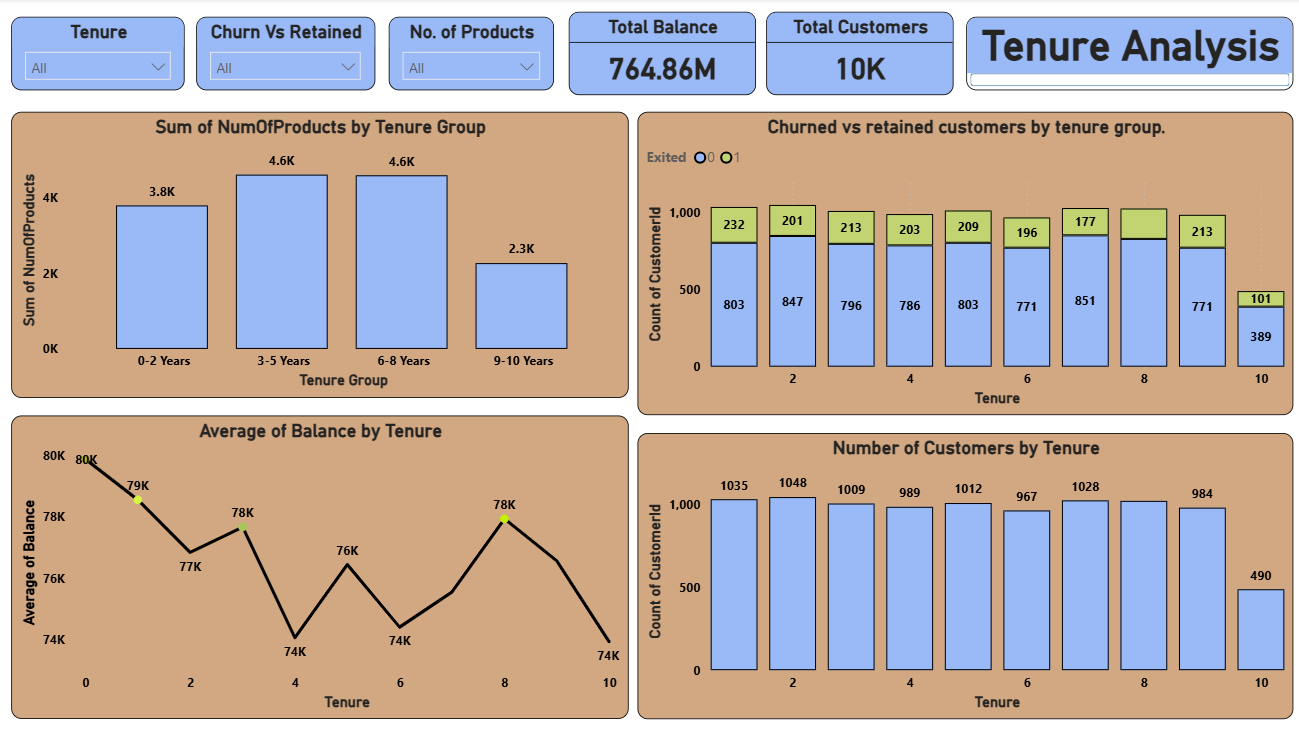

The page's visual inventory and layout, read from the dashboard file:
{"tool":"powerbi","page":{"name":"Page 2","canvas":[1280,720],"ordinal":1},"visuals":[{"type":"clusteredColumnChart","title":"Number of Customers by Tenure","fields":{"Y":["CountNonNull(cleaned_churn.CustomerId)"],"Category":["cleaned_churn.Tenure"]},"box":[628.5,425.5,642,280],"z":0},{"type":"columnChart","title":"Churned vs retained customers by tenure group.","fields":{"Y":["CountNonNull(cleaned_churn.CustomerId)"],"Category":["cleaned_churn.Tenure"],"Series":["cleaned_churn.Exited"]},"box":[628.5,111.3,642,297.1],"z":1000},{"type":"lineChart","fields":{"Category":["cleaned_churn.Tenure"],"Y":["Avg(cleaned_churn.Balance)"]},"box":[15.9,408.4,604.1,297.1],"z":2000},{"type":"columnChart","fields":{"Category":["cleaned_churn.Tenure Group"],"Y":["Sum(cleaned_churn.NumOfProducts)"]},"box":[15.9,111.3,604.1,280],"z":3000},{"type":"slicer","title":"Tenure","fields":{"Values":["cleaned_churn.Tenure Group"]},"box":[15.9,18.3,170,72.1],"z":4000},{"type":"slicer","title":"Churn Vs Retained","fields":{"Values":["cleaned_churn.Exited"]},"box":[196.9,18.3,174.9,72.1],"z":5000},{"type":"slicer","title":"No. of Products","fields":{"Values":["cleaned_churn.NumOfProducts"]},"box":[385.2,18.3,161.4,72.1],"z":6000},{"type":"card","title":"Total Balance","fields":{"Values":["Sum(cleaned_churn.Balance)"]},"box":[561.3,13.5,183.4,81.9],"z":7000},{"type":"shape","title":"Tenure Analysis","box":[950.1,18.3,320.4,72.1],"z":8000},{"type":"card","title":"Total Customers","fields":{"Values":["CountNonNull(cleaned_churn.CustomerId)"]},"box":[754.5,13.5,183.4,81.9],"z":9000}]}

Visuals, with their boxes in screenshot pixels (x1, y1, x2, y2), scaled from the page's 1280x720 canvas onto the 1299x730 screenshot:
"Number of Customers by Tenure" clusteredColumnChart: [638,431,1289,715]
"Churned vs retained customers by tenure group." columnChart: [638,113,1289,414]
lineChart - cleaned_churn.Tenure x Avg(cleaned_churn.Balance): [16,414,629,715]
columnChart - cleaned_churn.Tenure Group x Sum(cleaned_churn.NumOfProducts): [16,113,629,397]
"Tenure" slicer: [16,19,189,92]
"Churn Vs Retained" slicer: [200,19,377,92]
"No. of Products" slicer: [391,19,555,92]
"Total Balance" card: [570,14,756,97]
"Tenure Analysis" shape: [964,19,1289,92]
"Total Customers" card: [766,14,952,97]
